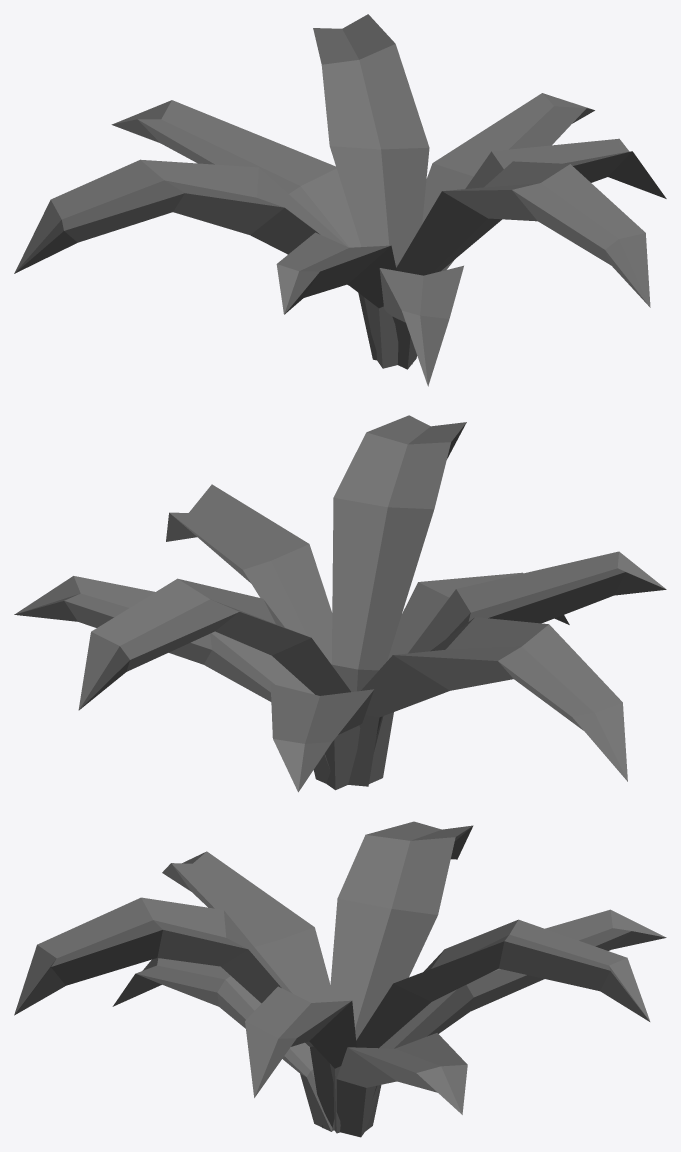
The model's file is SM_Gen_Env_Fern_02.glb.
The picture shows the model from 3 angles, top to bottom: view 1: azimuth 30°, elevation 25°; view 2: azimuth 150°, elevation 25°; view 3: azimuth 270°, elevation 25°; orthographic projection. The views are drawn at different scales.
Parts seen in each view (by area): view 1: SM_Gen_Env_Fern_02; view 2: SM_Gen_Env_Fern_02; view 3: SM_Gen_Env_Fern_02.
Boxes of the visible parts, x1,y1,x2,y2 form: SM_Gen_Env_Fern_02: [14, 14, 666, 386]; SM_Gen_Env_Fern_02: [14, 415, 666, 792]; SM_Gen_Env_Fern_02: [14, 821, 666, 1137].
Bounding box in the file's own units: 1.6 × 0.6371 × 1.61.
1 material, 1 textured.
